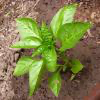Bell_pepper leaf: (57, 22, 94, 51), (14, 17, 42, 44), (29, 59, 46, 97), (13, 56, 41, 76), (9, 37, 44, 52), (43, 45, 58, 73), (48, 71, 62, 98), (39, 20, 52, 45), (32, 44, 48, 57), (70, 58, 83, 73)
